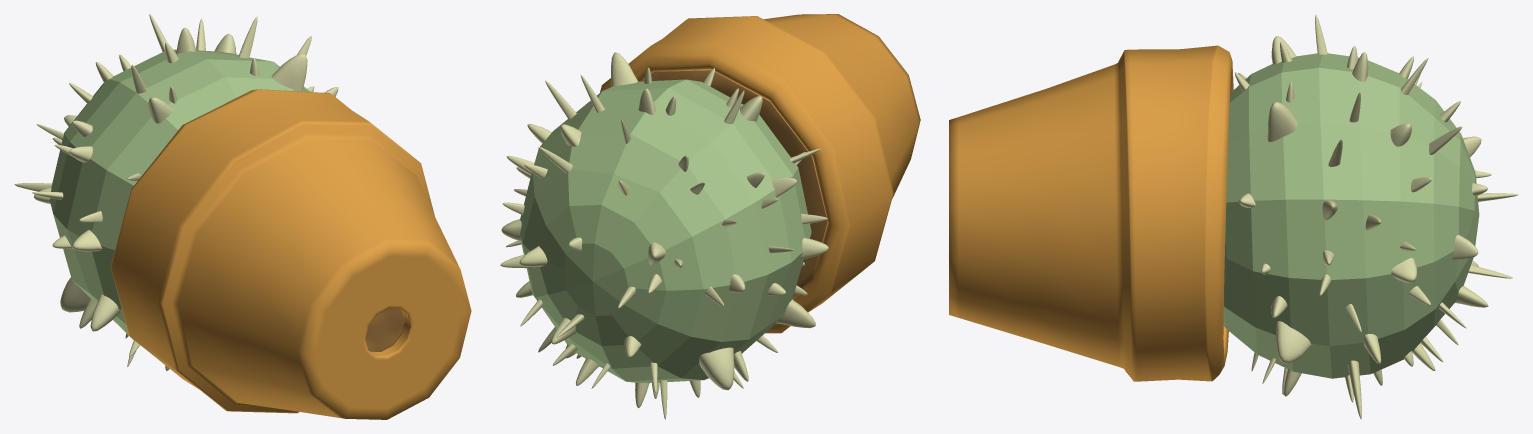
The model's file is pot_cactus.fbx.
The picture shows the model from 3 angles, left to right: view 1: azimuth 30°, elevation 25°; view 2: azimuth 150°, elevation 25°; view 3: azimuth 270°, elevation 25°; orthographic projection. The views are drawn at different scales.
Visible parts, largest first — view 1: msh_pot.001; view 2: msh_pot.001; view 3: msh_pot.001.
Part boxes in pixels (x1,y1,x2,y2): msh_pot.001: [14, 14, 471, 419]; msh_pot.001: [500, 14, 920, 419]; msh_pot.001: [949, 14, 1518, 419].
Bounding box in the file's own units: 16.53 × 16.41 × 25.4.
